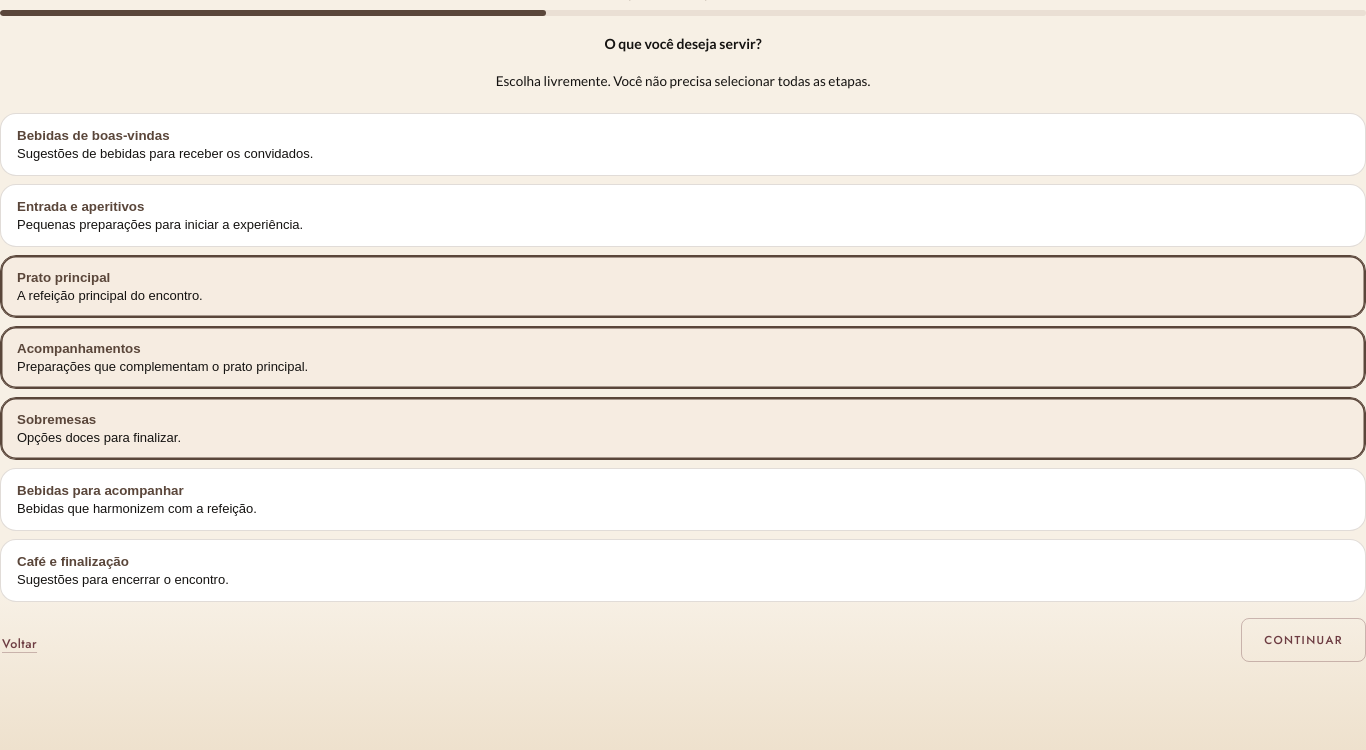
Scenario: MenuBuilderPage › monta o cardápio, ajusta as quantidades e leva a lista para as Listas de Compras
Earlier steps of the test are not shown.
Click the button "Continuar". click: (1304, 640)
box: left=1241, top=618, right=1365, bottom=662
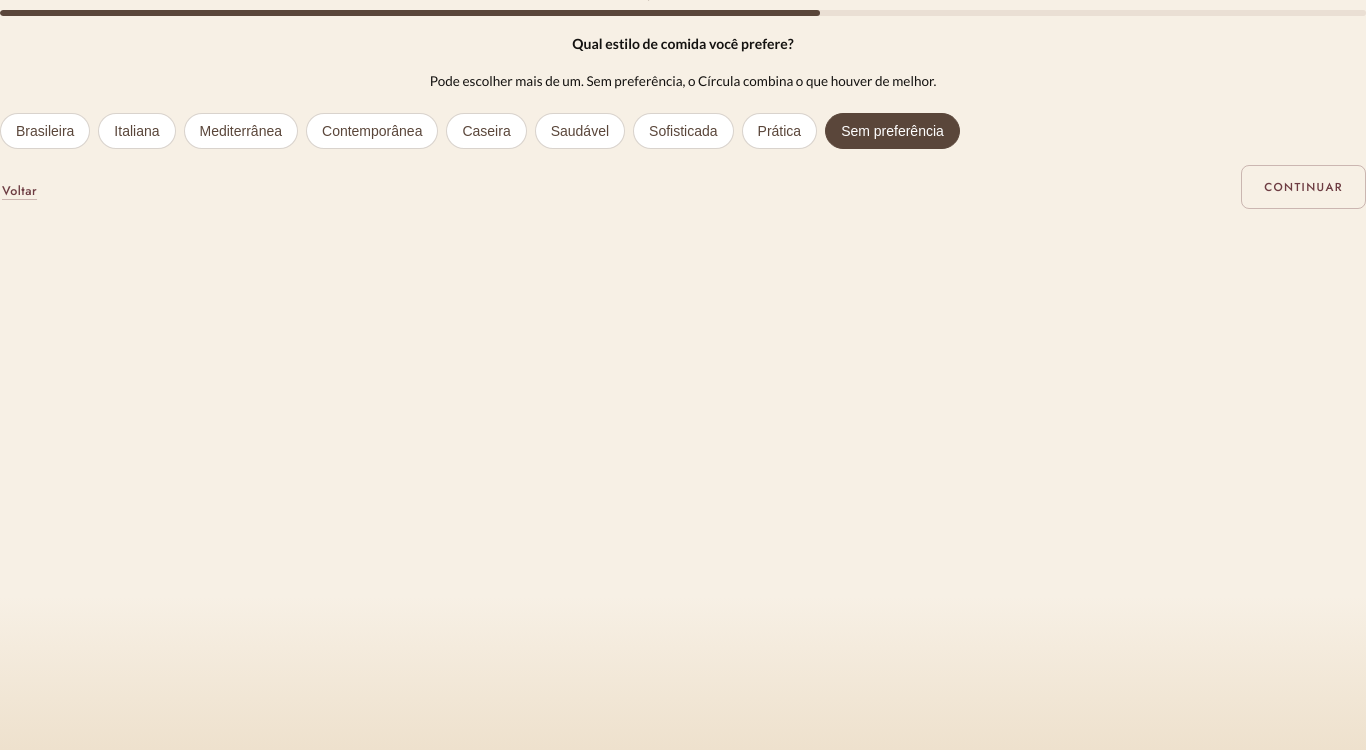
Click the button "Continuar". click: (1304, 187)
box: left=1241, top=165, right=1365, bottom=209
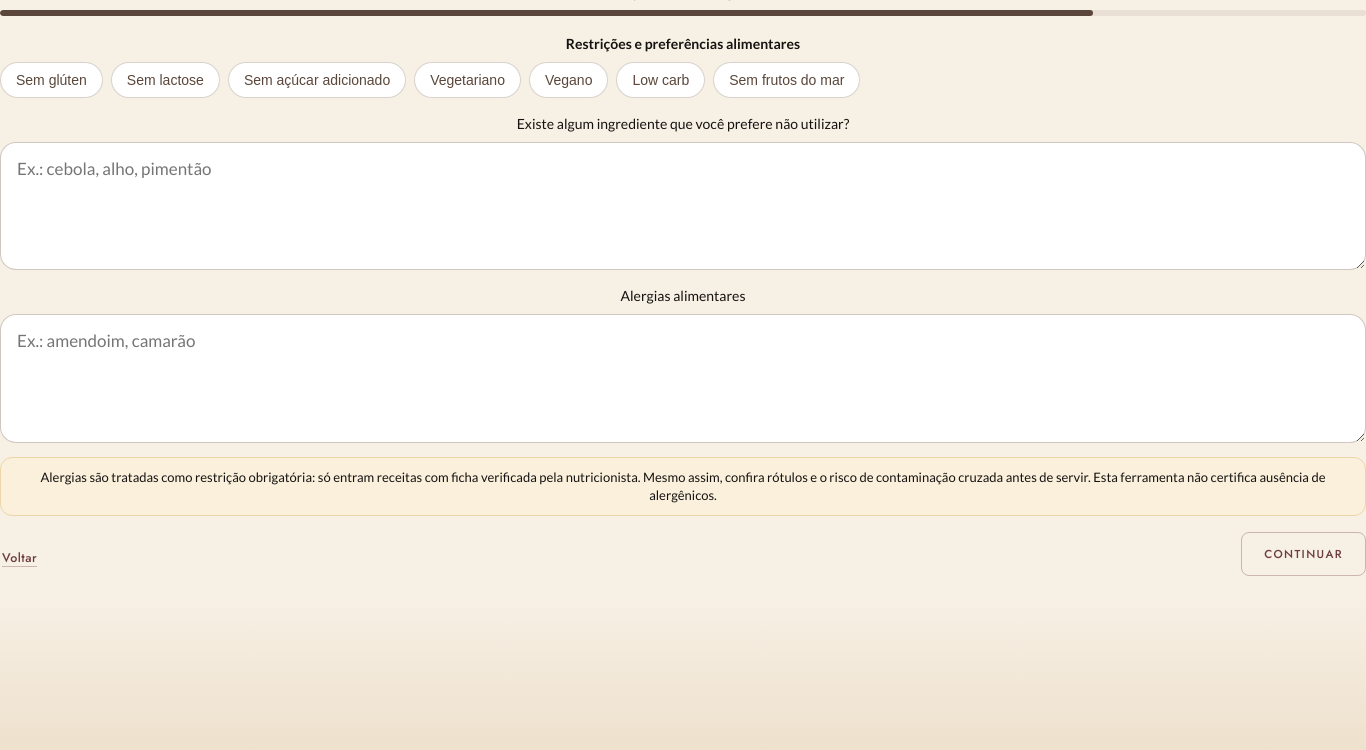
Click the button "Continuar". click: (1304, 554)
box: left=1241, top=532, right=1365, bottom=576
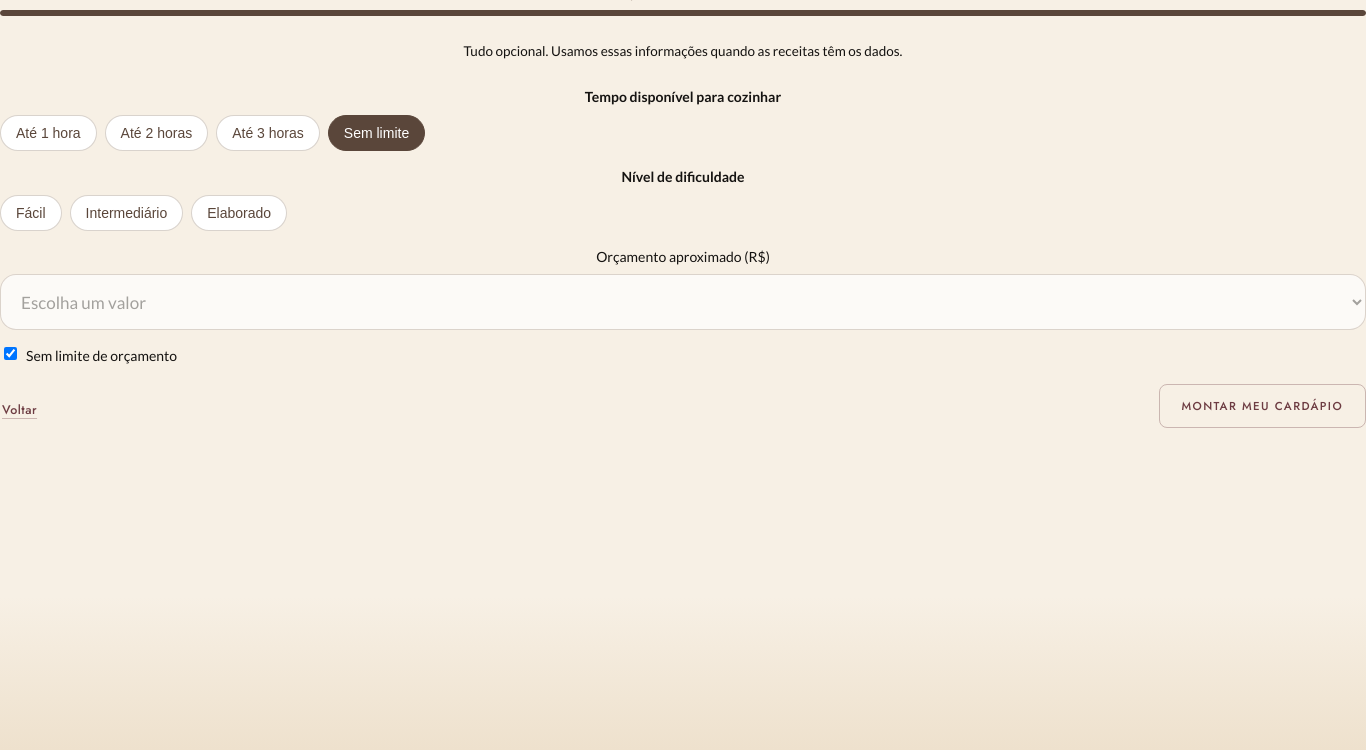
Click the button "Montar meu cardápio". click: (1262, 406)
box: left=1158, top=384, right=1365, bottom=428
(page scrolled)
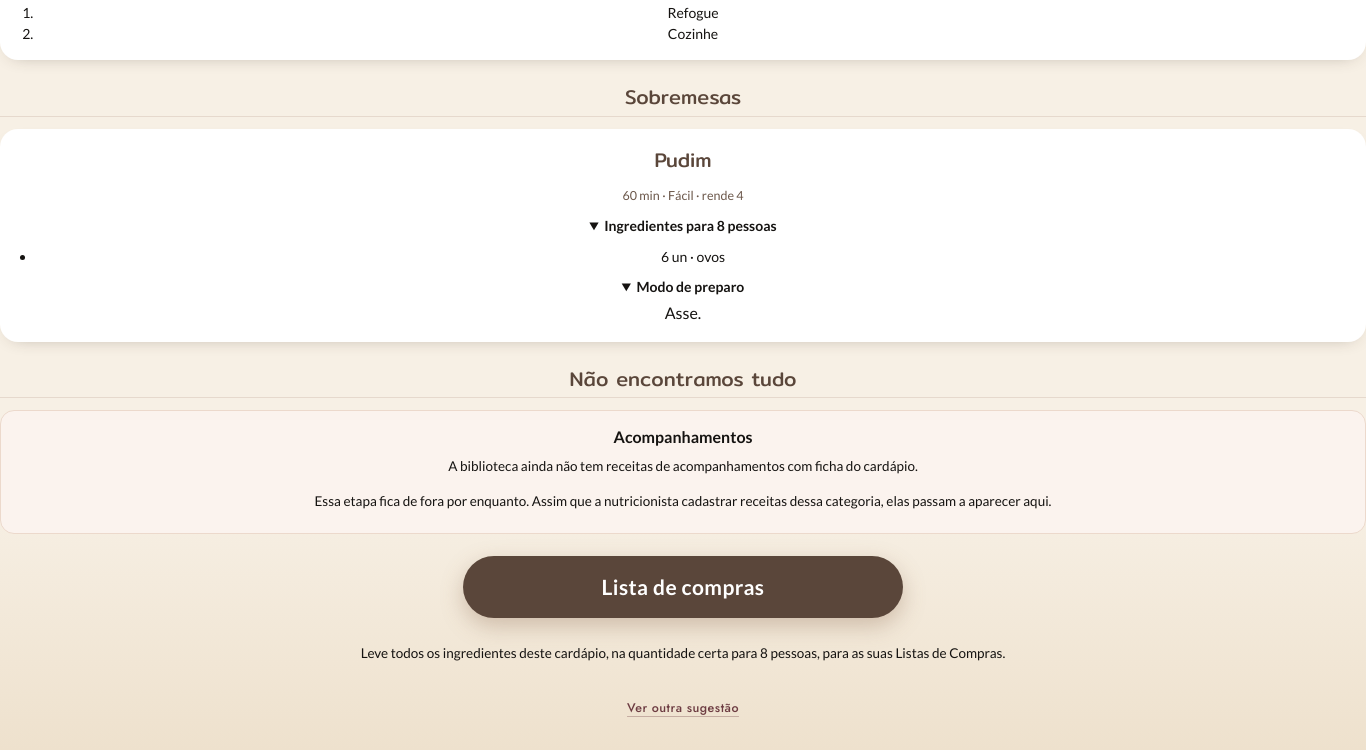
Check: the heading "Pudim" is shown, box left=654, top=144, right=712, bottom=175
Click the button "Lista de compras". click: (683, 586)
box: left=463, top=556, right=903, bottom=618
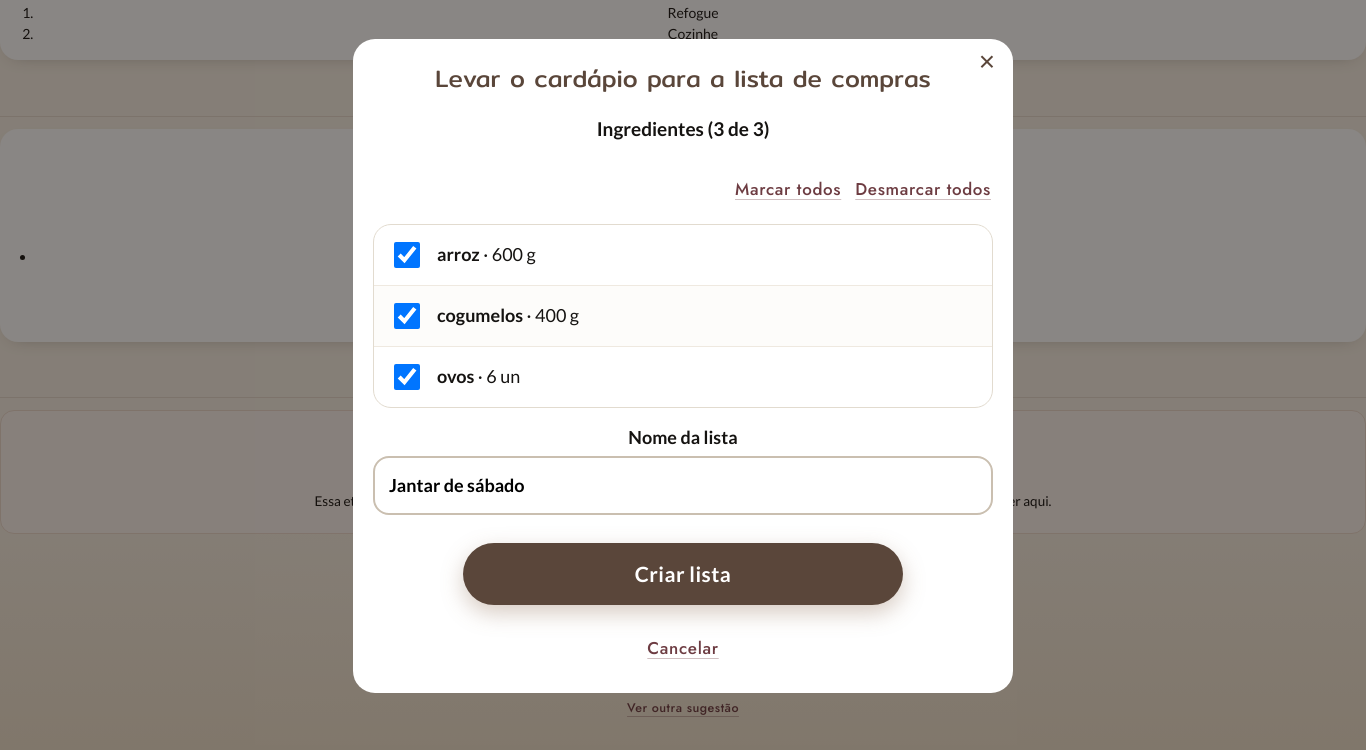
Check: the heading "Levar o cardápio para a lista de compras" is shown, box left=435, top=59, right=931, bottom=97
Click the button "Criar lista". click: (683, 574)
box: left=463, top=543, right=903, bottom=605
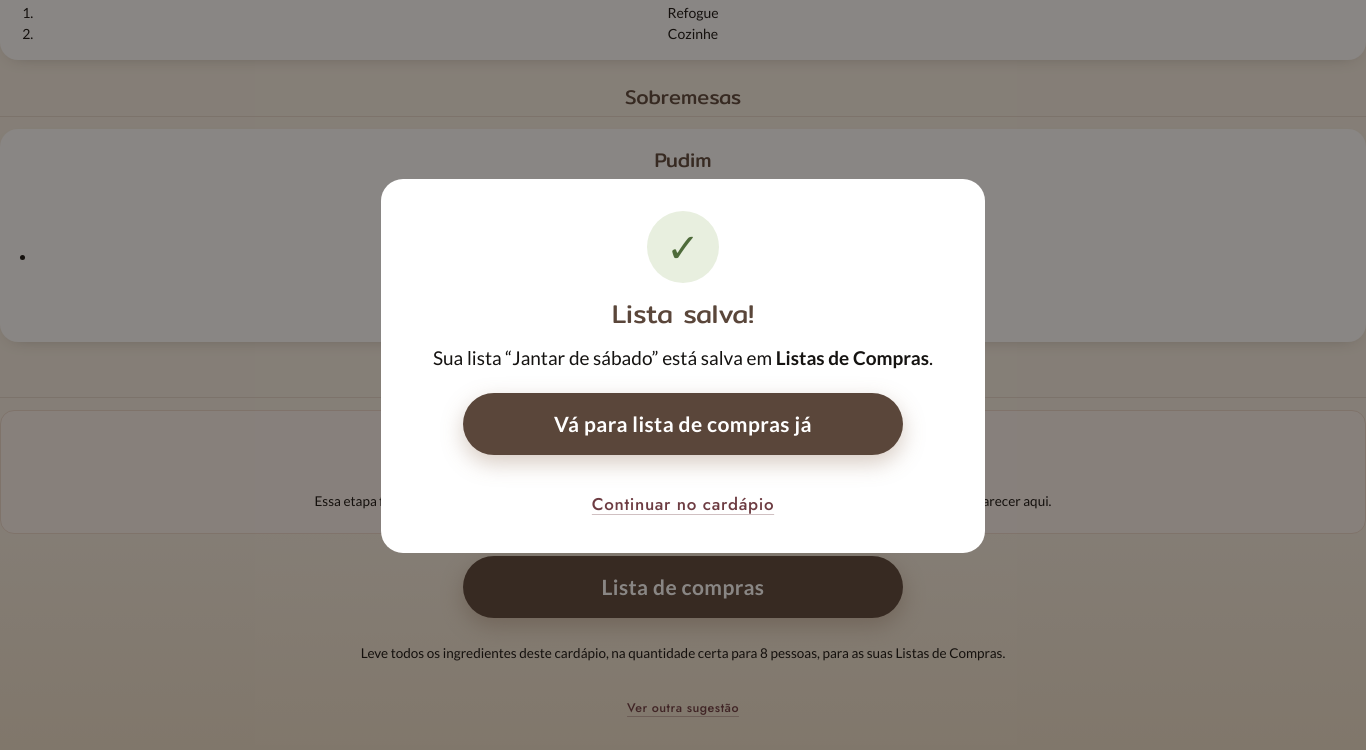
Check: the heading "Lista salva!" is shown, box left=612, top=297, right=754, bottom=330
Check: the button "Vá para lista de compras já" is shown, box left=463, top=393, right=903, bottom=455
